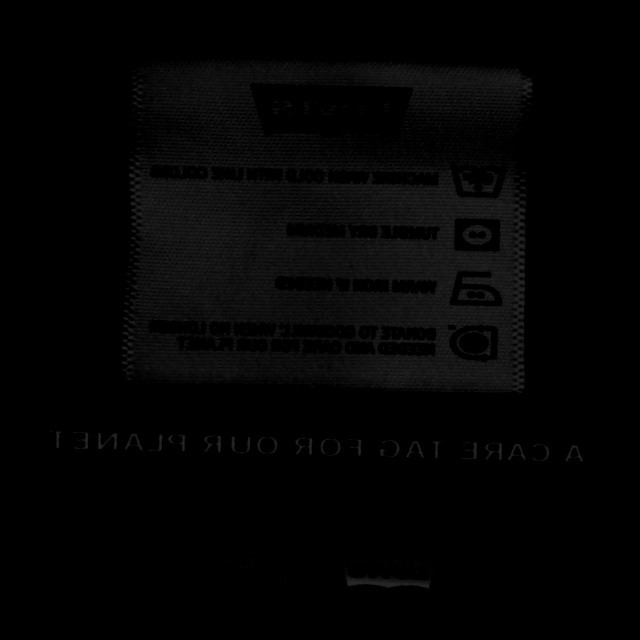30C: (433, 138, 523, 220)
iron_medium: (433, 250, 518, 328)
tumble_dry_medium: (437, 201, 517, 272)
